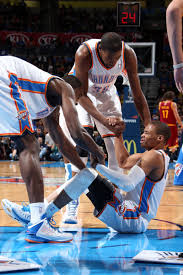fall: (5, 114, 174, 240)
